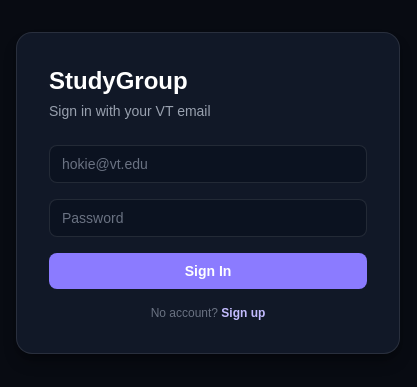
Test: LoginPage › shows Supabase error message when login fails
Type "test@vt.edu" into the field with placeholder "hokie@vt.edu" at (208, 164), box [49, 145, 367, 183]
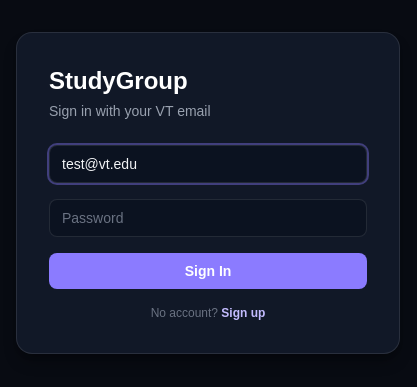
Type "wrong-password" into the password field with placeholder "Password" at (208, 218), box [49, 199, 367, 237]
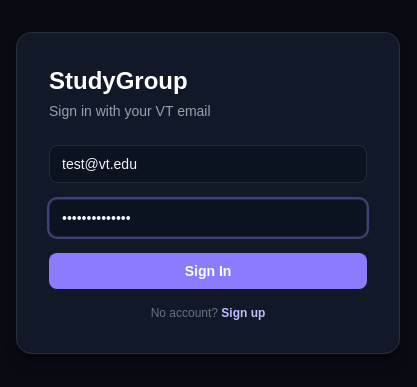
Click the button "Sign In" at (208, 271), box [49, 253, 367, 289]
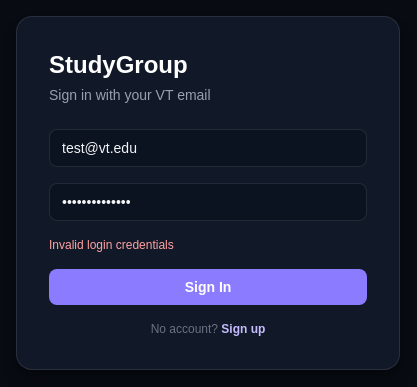
Now the text "Invalid login credentials" is shown, box [49, 238, 174, 252]
